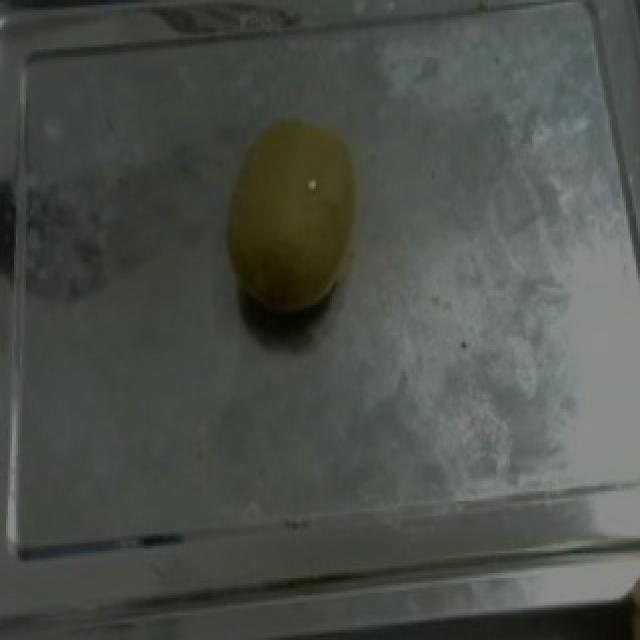Fruit: (210, 104, 376, 325)
